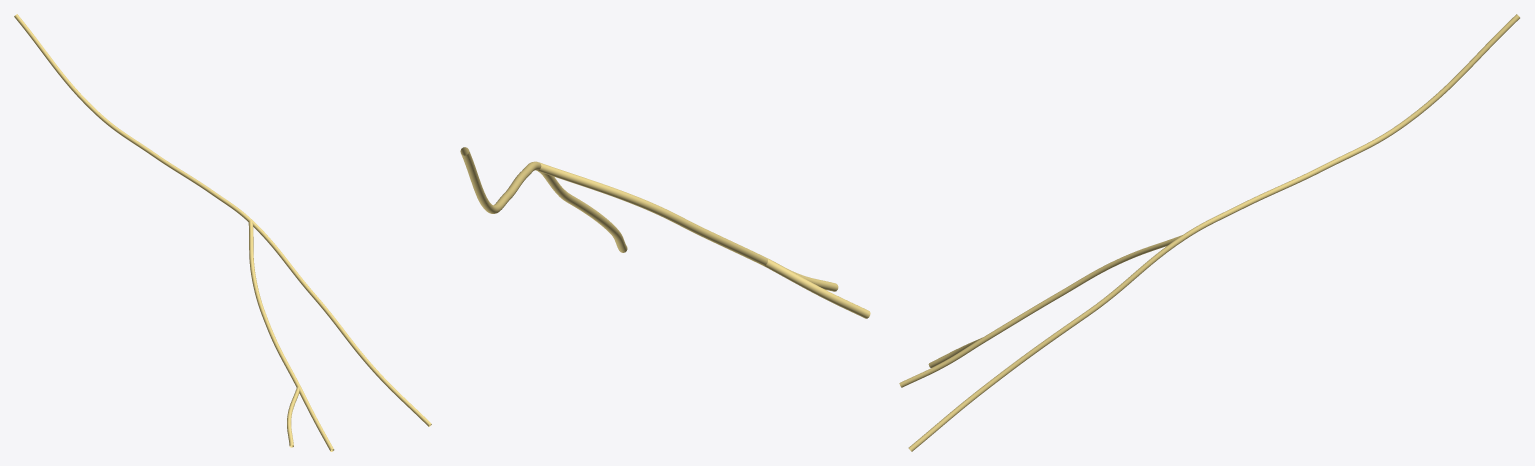
The picture shows the model from 3 angles, left to right: view 1: azimuth 30°, elevation 25°; view 2: azimuth 150°, elevation 25°; view 3: azimuth 270°, elevation 25°; orthographic projection. The views are drawn at different scales.
Visible parts, largest first — view 1: ZA_4271c44572e8c3ad; view 2: ZA_4271c44572e8c3ad; view 3: ZA_4271c44572e8c3ad.
Part boxes in pixels (left/top/right/bottom): ZA_4271c44572e8c3ad: left=14, top=14, right=431, bottom=451; ZA_4271c44572e8c3ad: left=460, top=147, right=870, bottom=318; ZA_4271c44572e8c3ad: left=899, top=14, right=1519, bottom=451.
Size of the model in its own units: 0.0448 by 0.0684 by 0.1143.
